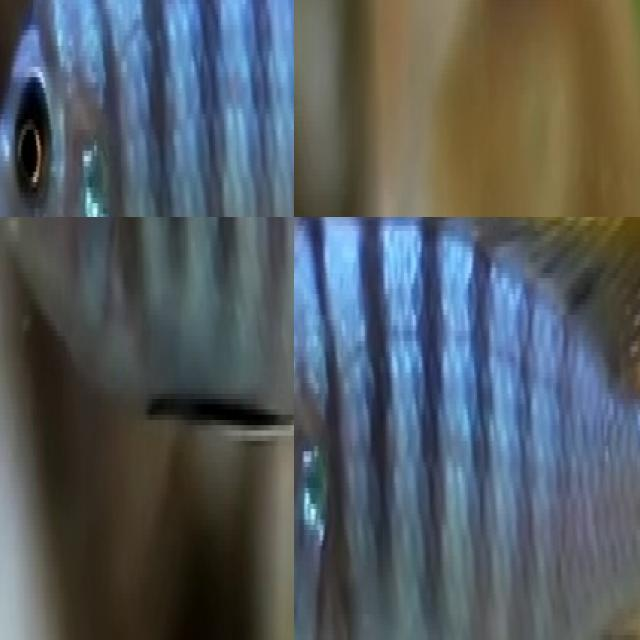fish: (0, 217, 294, 514), (0, 0, 294, 217)
